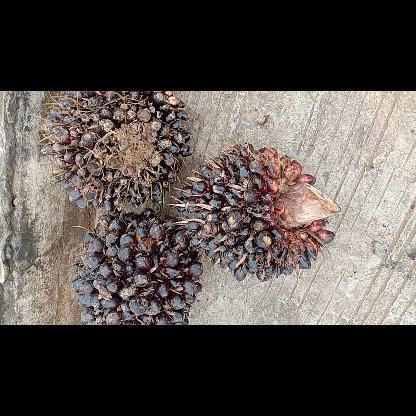TBS mentah: (174, 139, 344, 285), (38, 91, 196, 207), (72, 206, 206, 324)
